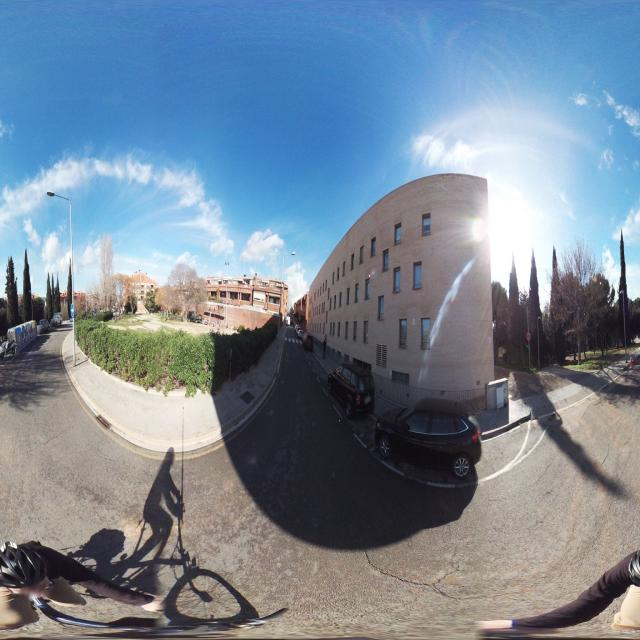forb_stopping: (527, 333, 530, 340)
